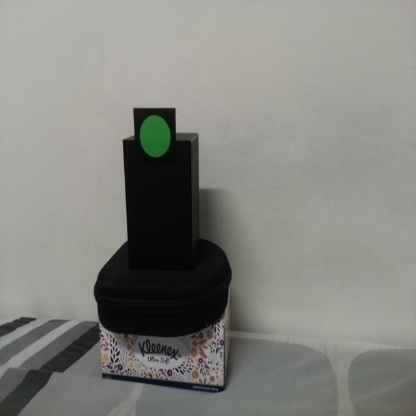id_5: (133, 108, 176, 167)
